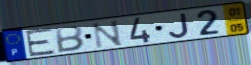2: (196, 8, 226, 38)
4: (129, 16, 153, 44)
B: (54, 24, 85, 54)
E: (24, 26, 58, 58)
J: (167, 12, 191, 39)
N: (91, 19, 125, 50)
